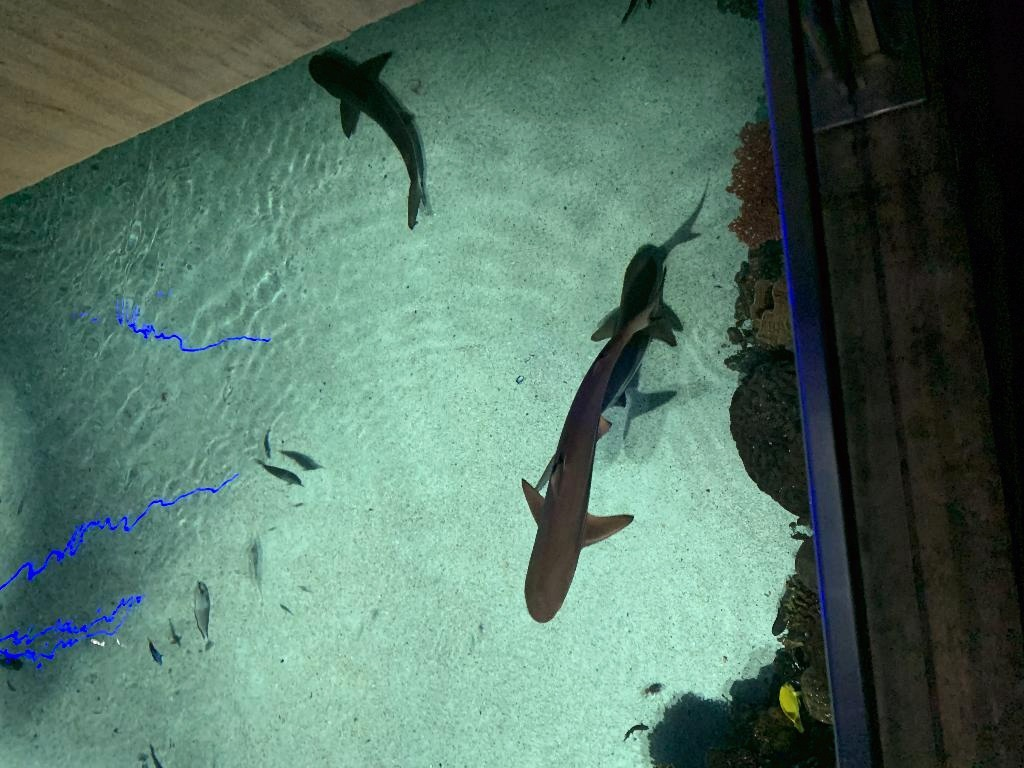fish: (192, 578, 216, 652), (254, 458, 302, 488), (778, 680, 804, 734), (624, 721, 650, 741), (147, 636, 163, 666), (261, 428, 273, 457)
shark: (508, 281, 668, 637), (560, 238, 684, 460), (304, 43, 436, 236)
